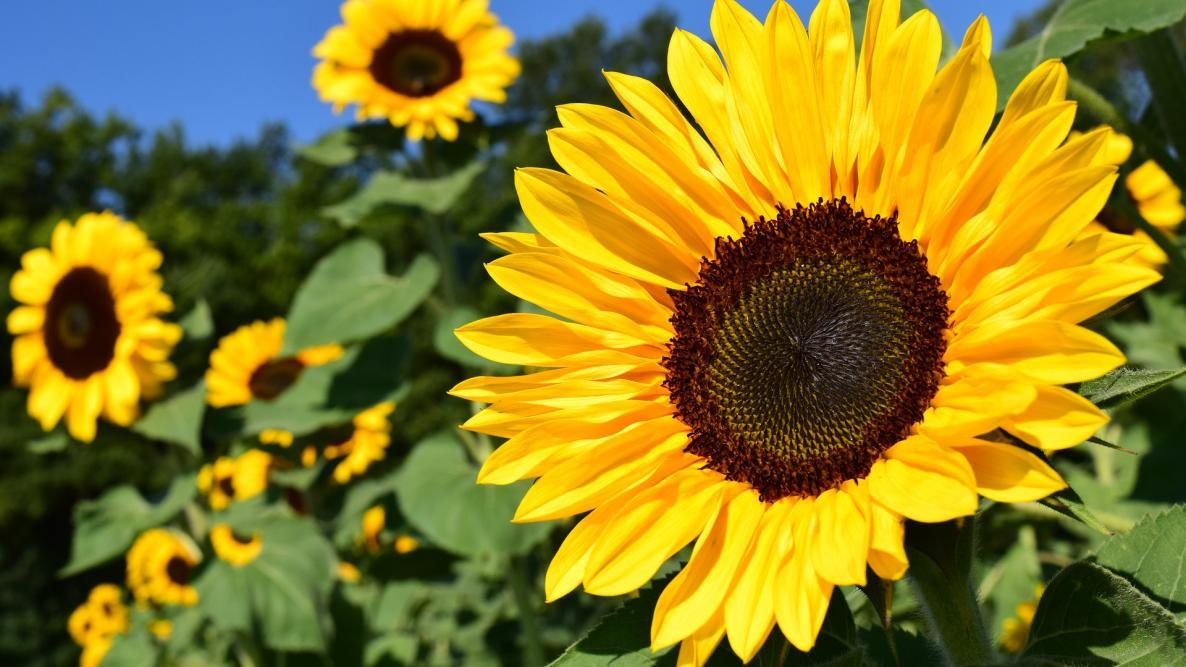sunflower: (449, 1, 1152, 665), (18, 209, 178, 431), (312, 1, 525, 141)
